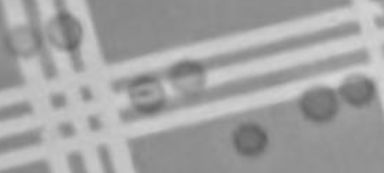cell: (122, 70, 171, 117), (163, 52, 210, 100), (295, 79, 340, 126), (42, 8, 86, 53), (227, 117, 271, 159), (337, 66, 378, 111), (2, 19, 44, 61)
